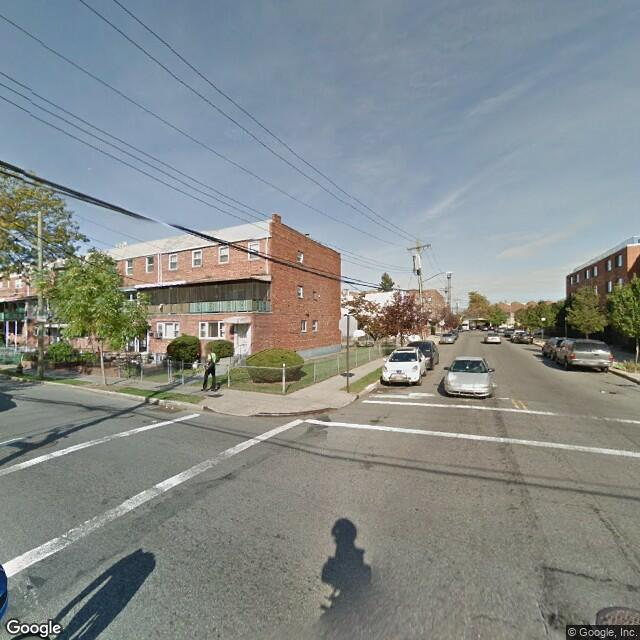litter: (164, 404, 177, 412)
